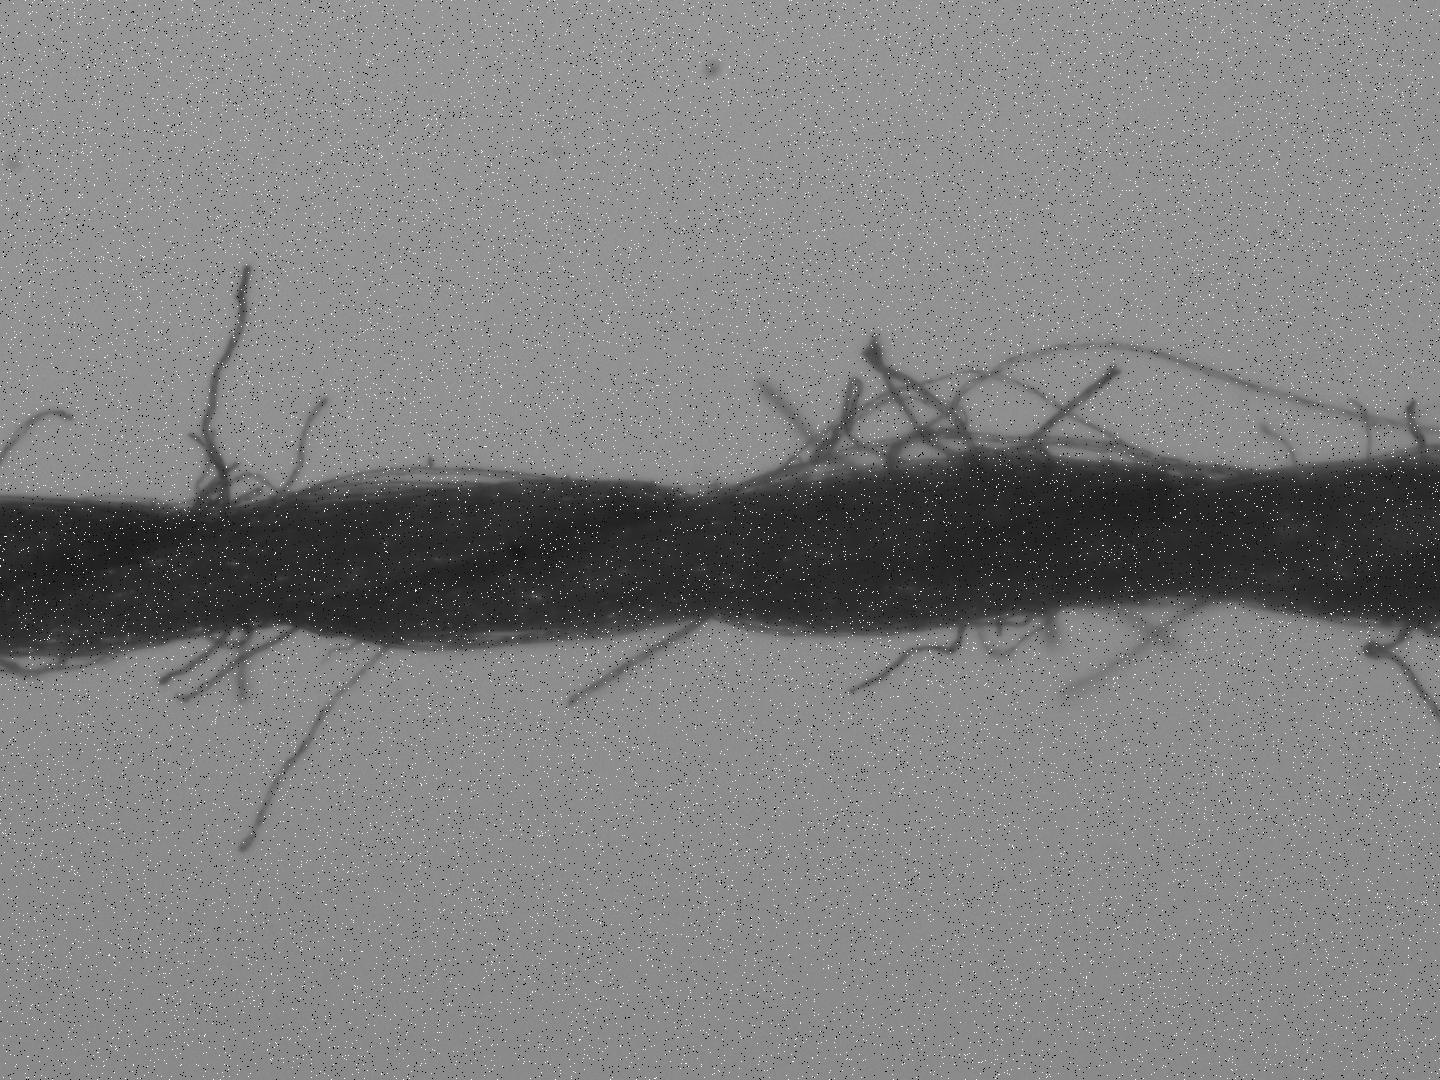loop_fiber: (736, 432, 1169, 495), (306, 462, 551, 501), (966, 611, 1062, 658), (198, 478, 295, 520), (9, 650, 113, 678), (1169, 463, 1268, 483), (204, 619, 255, 649)
protruding_fiber: (239, 643, 392, 861), (567, 617, 717, 714), (200, 267, 255, 522), (180, 626, 305, 714), (1023, 365, 1121, 456), (852, 624, 968, 698), (161, 621, 235, 687)
